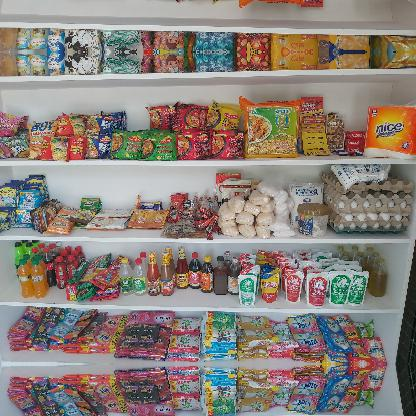Lady-s-Choice: (296, 203, 330, 237)
